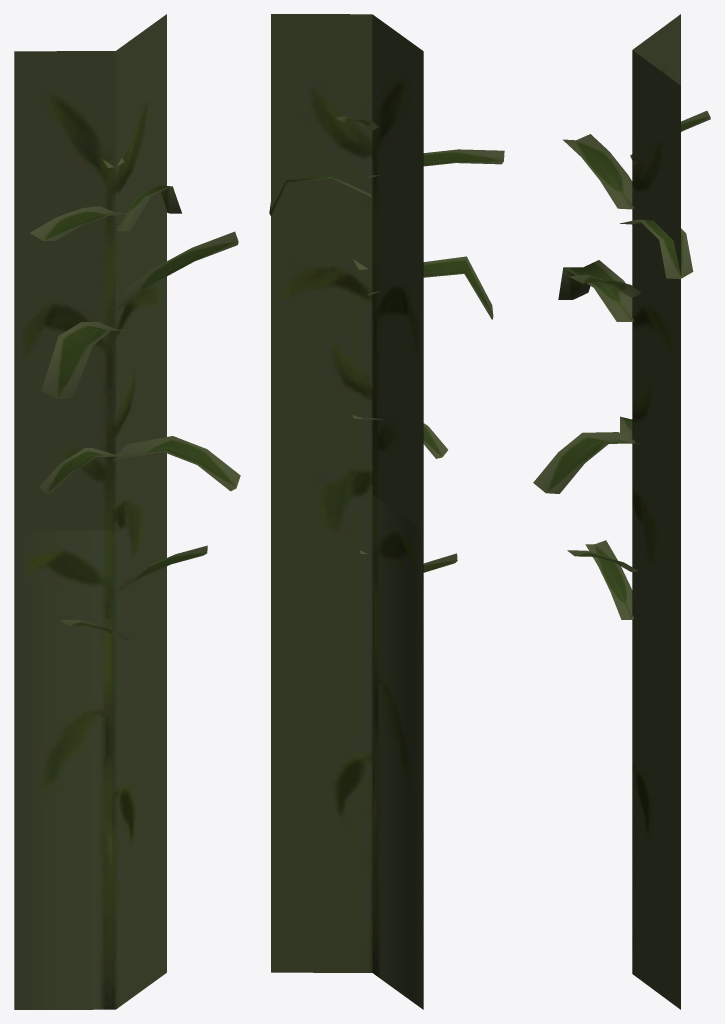
The model's file is Common_OBJ_Longgrass_01.fbx.
3 views of the same model, side by side, from view 1: azimuth 30°, elevation 25°; view 2: azimuth 150°, elevation 25°; view 3: azimuth 270°, elevation 25° (orthographic). The views are drawn at different scales.
Parts seen in each view (by area): view 1: Common_OBJ_Longgrass_01; view 2: Common_OBJ_Longgrass_01; view 3: Common_OBJ_Longgrass_01.
Part boxes in pixels (<box>): Common_OBJ_Longgrass_01: <box>14,14,240,1009</box>; Common_OBJ_Longgrass_01: <box>269,14,504,1009</box>; Common_OBJ_Longgrass_01: <box>533,14,710,1009</box>.
Size of the model in its own units: 50.85 by 223 by 38.93.
1 material, 1 textured.
